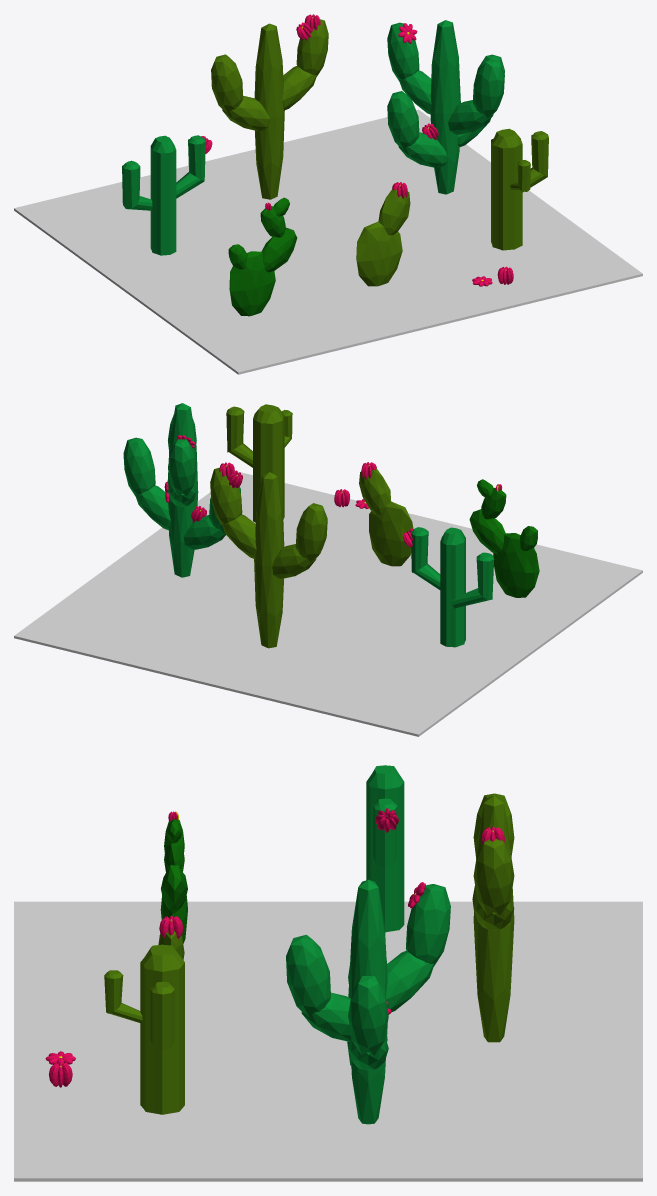
Rendered from Kakteen.fbx.
The picture shows the model from 3 angles, top to bottom: view 1: azimuth 30°, elevation 25°; view 2: azimuth 150°, elevation 25°; view 3: azimuth 270°, elevation 25°; orthographic projection. The views are drawn at different scales.
Visible parts, largest first — view 1: Cube.001, Icosphere.007, Icosphere.005, Icosphere.000, Cube, Icosphere.001, Icosphere.002; view 2: Cube.001, Icosphere.005, Icosphere.007, Icosphere.000, Icosphere.001, Cube, Icosphere.002; view 3: Cube.001, Icosphere.007, Icosphere.005, Cube, Icosphere.000, Icosphere.001, Icosphere.002.
Boxes of the visible parts, box(x1,y1,x2,y2) form: Cube.001: box(14, 109, 642, 374); Icosphere.007: box(387, 20, 504, 194); Icosphere.005: box(211, 14, 328, 199); Icosphere.000: box(122, 135, 212, 255); Cube: box(491, 128, 548, 250); Icosphere.001: box(228, 197, 297, 316); Icosphere.002: box(356, 182, 410, 286); Cube.001: box(14, 471, 642, 736); Icosphere.005: box(210, 462, 327, 648); Icosphere.007: box(123, 403, 240, 577); Icosphere.000: box(402, 527, 494, 647); Icosphere.001: box(469, 479, 539, 597); Cube: box(226, 404, 292, 522); Icosphere.002: box(359, 462, 413, 566); Cube.001: box(14, 901, 642, 1181); Icosphere.007: box(286, 879, 450, 1124); Icosphere.005: box(472, 793, 514, 1042); Cube: box(104, 944, 184, 1114); Icosphere.000: box(366, 765, 404, 932); Icosphere.001: box(160, 811, 187, 943); Icosphere.002: box(158, 915, 184, 959).
Size of the model in its own units: 1565 by 671 by 1503.
